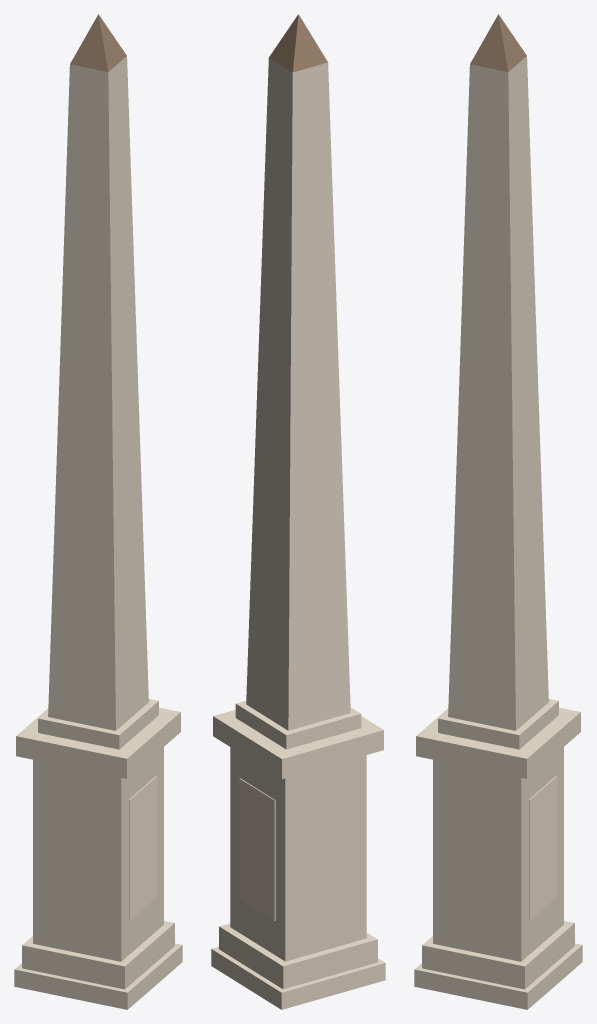
The picture shows the model from 3 angles, left to right: view 1: azimuth 90°, elevation 25°; view 2: azimuth 150°, elevation 25°; view 3: azimuth 270°, elevation 25°; orthographic projection.
Parts seen in each view (by area): view 1: stone, trim, metal; view 2: stone, trim, metal; view 3: stone, trim, metal.
Boxes of the visible parts, x1,y1,x2,y2 form: stone: [14, 56, 182, 1009]; trim: [129, 776, 157, 920]; metal: [70, 14, 126, 71]; stone: [211, 58, 385, 1009]; trim: [239, 778, 275, 920]; metal: [269, 14, 327, 72]; stone: [414, 56, 582, 1009]; trim: [529, 776, 557, 920]; metal: [470, 14, 526, 71].
Bounding box in the file's own units: 5.29 × 33.37 × 5.29.
